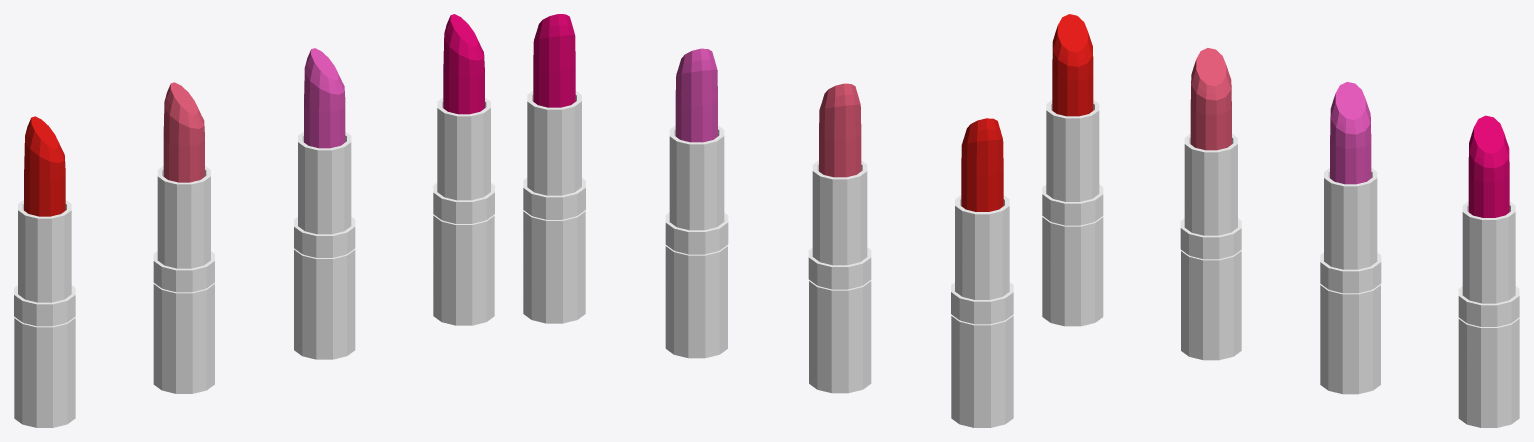
The model's file is lipsticks.glb.
3 renders of one model, left to right at view 1: azimuth 30°, elevation 25°; view 2: azimuth 150°, elevation 25°; view 3: azimuth 330°, elevation 25°, orthographic. The views are drawn at different scales.
Parts seen in each view (by area): view 1: Cylinder, Cylinder.001, Cylinder.003, Cylinder.002; view 2: Cylinder.003, Cylinder, Cylinder.001, Cylinder.002; view 3: Cylinder.002, Cylinder.001, Cylinder, Cylinder.003.
Part boxes in pixels (x1,y1,x2,y2): Cylinder: (294, 48, 355, 359); Cylinder.001: (433, 14, 494, 325); Cylinder.003: (153, 82, 214, 393); Cylinder.002: (14, 116, 75, 427); Cylinder.003: (808, 83, 871, 393); Cylinder: (665, 48, 728, 358); Cylinder.001: (523, 14, 585, 323); Cylinder.002: (951, 118, 1013, 427); Cylinder.002: (1042, 14, 1103, 326); Cylinder.001: (1458, 115, 1519, 427); Cylinder: (1320, 82, 1381, 394); Cylinder.003: (1180, 48, 1241, 360).
Bounding box in the file's own units: 5.03 × 3.01 × 0.5666.
